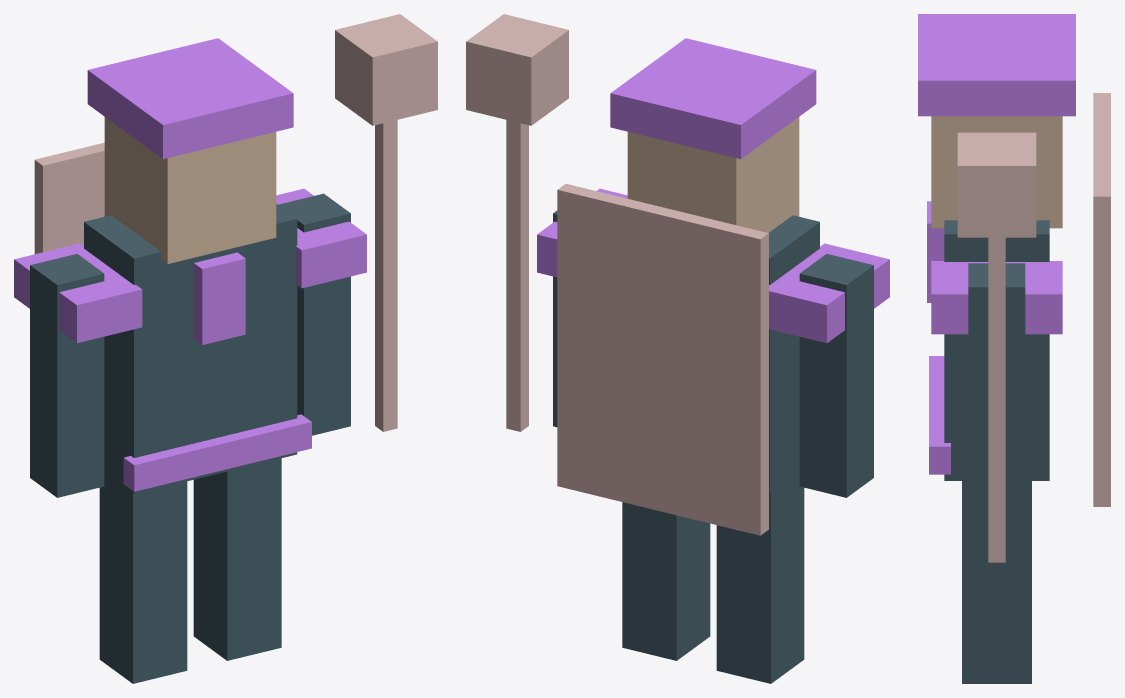
File: 08_yara_skyharrow_oracle_from.glb
3 views of the same model, side by side, from view 1: azimuth 30°, elevation 25°; view 2: azimuth 150°, elevation 25°; view 3: azimuth 270°, elevation 25° (orthographic). The views are drawn at different scales.
Visible parts, largest first — view 1: Yara Skyharrow, Oracle from; view 2: Yara Skyharrow, Oracle from; view 3: Yara Skyharrow, Oracle from.
Part boxes in pixels (bbox=[...]): Yara Skyharrow, Oracle from: bbox=[14, 14, 437, 683]; Yara Skyharrow, Oracle from: bbox=[466, 14, 889, 683]; Yara Skyharrow, Oracle from: bbox=[918, 14, 1110, 683].
Bounding box in the file's own units: 1.06 × 1.54 × 0.4492.
